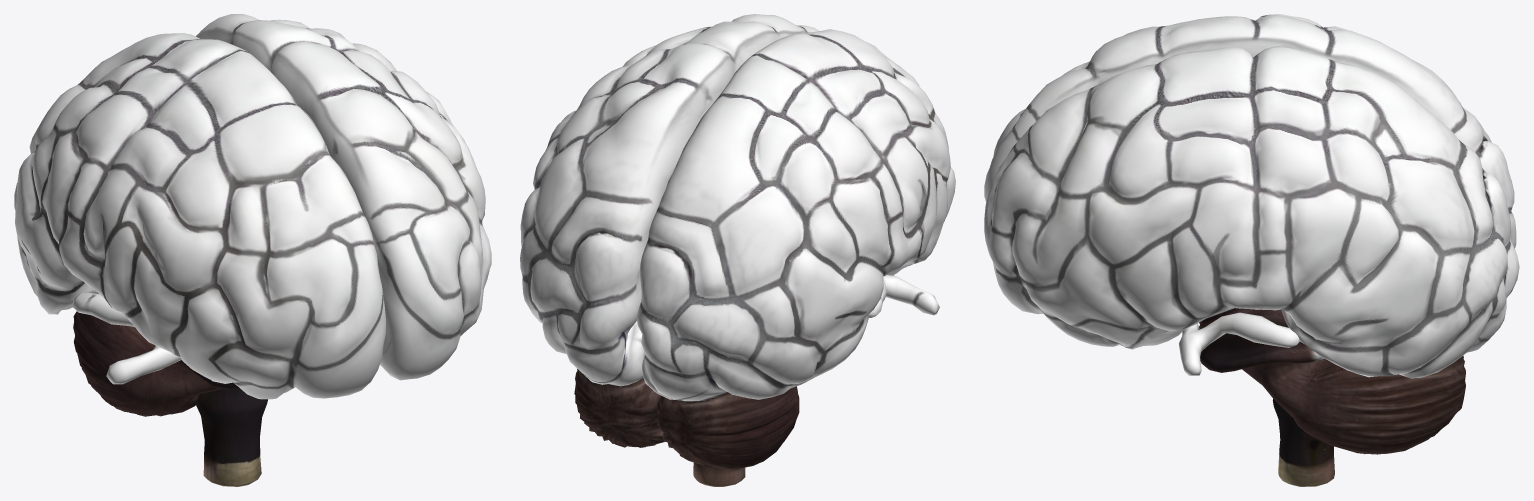
The model's file is platinum-brain.glb.
The picture shows the model from 3 angles, left to right: view 1: azimuth 30°, elevation 25°; view 2: azimuth 150°, elevation 25°; view 3: azimuth 270°, elevation 25°; orthographic projection. The views are drawn at different scales.
Size of the model in its own units: 1.49 by 1.74 by 1.92.
Materials: 1 (1 with a texture image).
